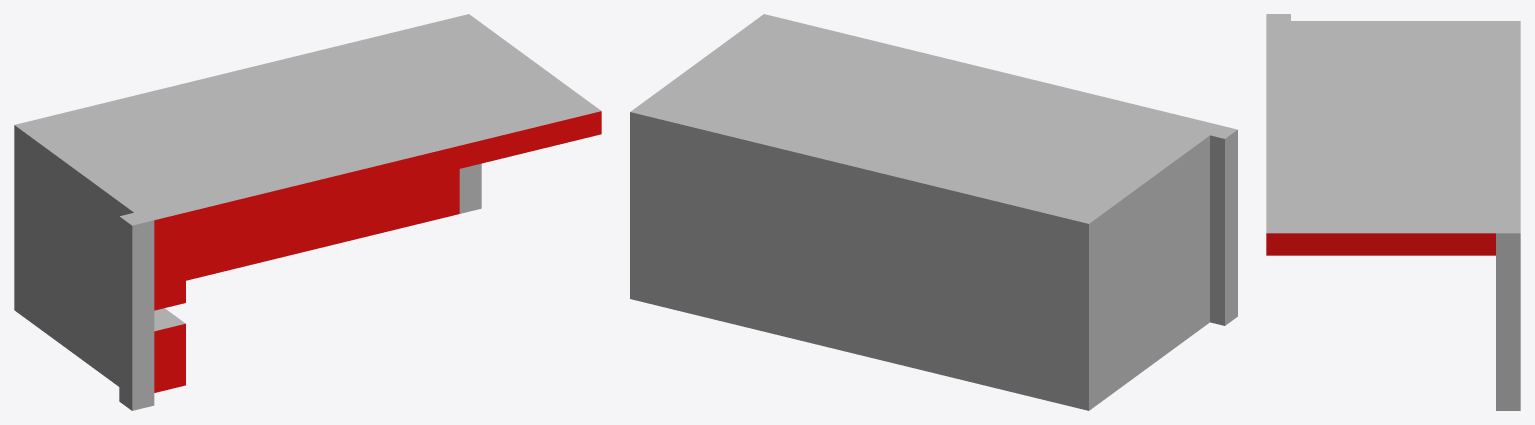
Rendered from CN Global Counter_Wall.FBX.
3 views of the same model, side by side, from view 1: azimuth 30°, elevation 25°; view 2: azimuth 150°, elevation 25°; view 3: azimuth 270°, elevation 25° (orthographic). The views are drawn at different scales.
Visible parts, largest first — view 1: CN Global Counter_Wall; view 2: CN Global Counter_Wall; view 3: CN Global Counter_Wall.
Part boxes in pixels (x1,y1,x2,y2): CN Global Counter_Wall: (14, 14, 601, 410); CN Global Counter_Wall: (630, 14, 1237, 410); CN Global Counter_Wall: (1266, 14, 1520, 410).
Size of the model in its own units: 398 by 150 by 195.
